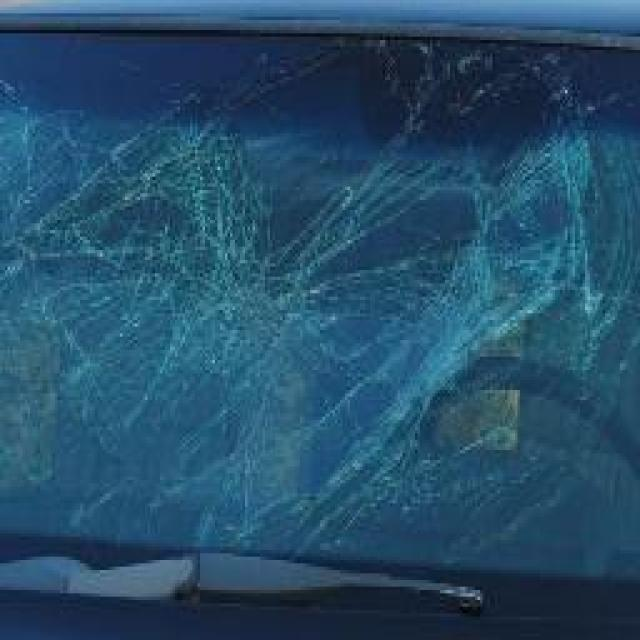Windshield: (0, 25, 640, 628)
